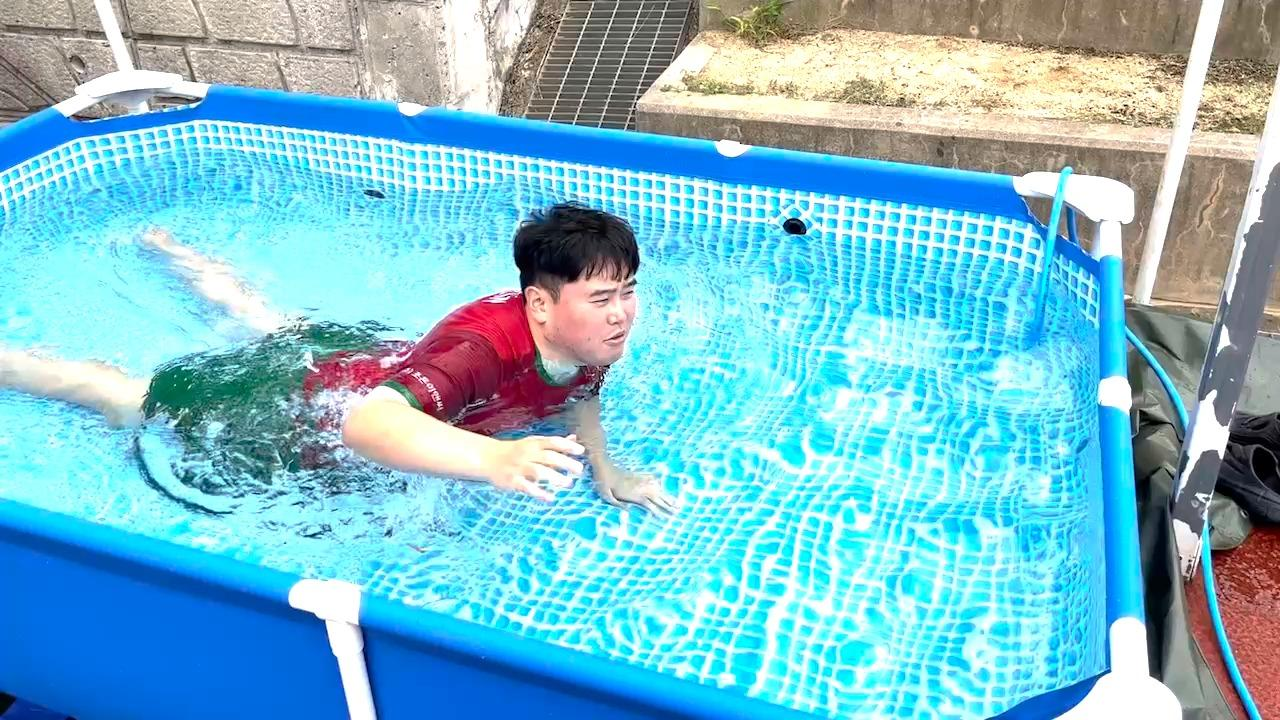Swimming: (0, 142, 730, 556)
